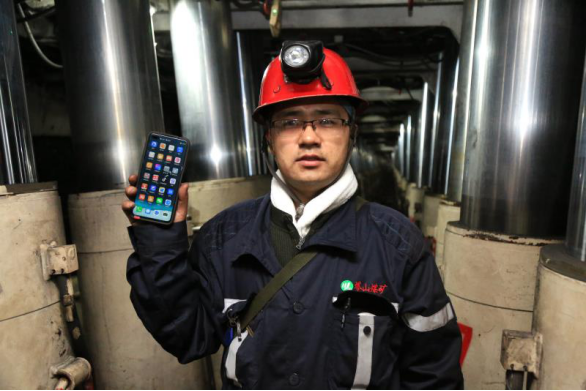helmet: (251, 47, 375, 191)
